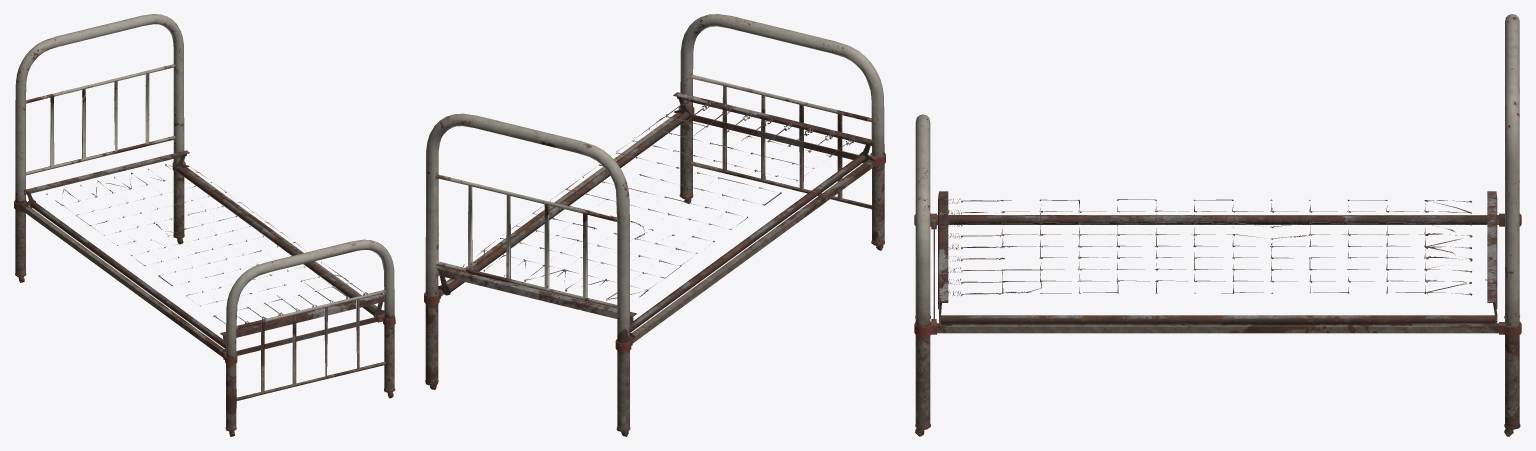
The model's file is old_bed_frame.glb.
The picture shows the model from 3 angles, left to right: view 1: azimuth 30°, elevation 25°; view 2: azimuth 150°, elevation 25°; view 3: azimuth 270°, elevation 25°; orthographic projection. The views are drawn at different scales.
Visible parts, largest first — view 1: old_bed_frame; view 2: old_bed_frame; view 3: old_bed_frame.
Boxes of the visible parts, x1,y1,x2,y2 form: old_bed_frame: (14, 14, 395, 436); old_bed_frame: (424, 14, 885, 436); old_bed_frame: (914, 14, 1521, 436).
Bounding box in the file's own units: 0.9047 × 1.2 × 2.
Materials: 1 (1 with a texture image).
